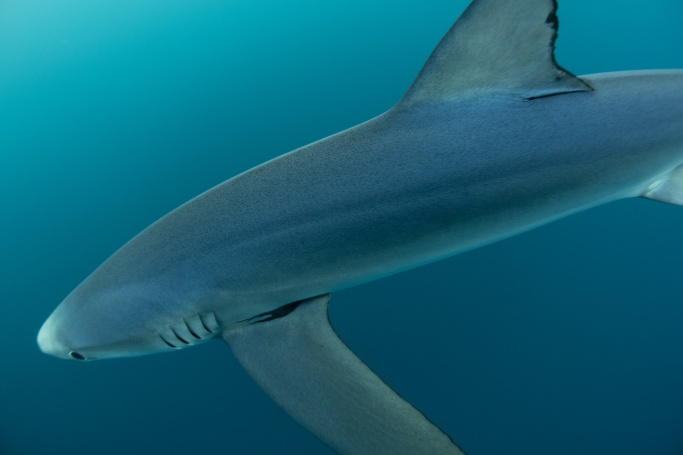Azul: (27, 1, 670, 448)
